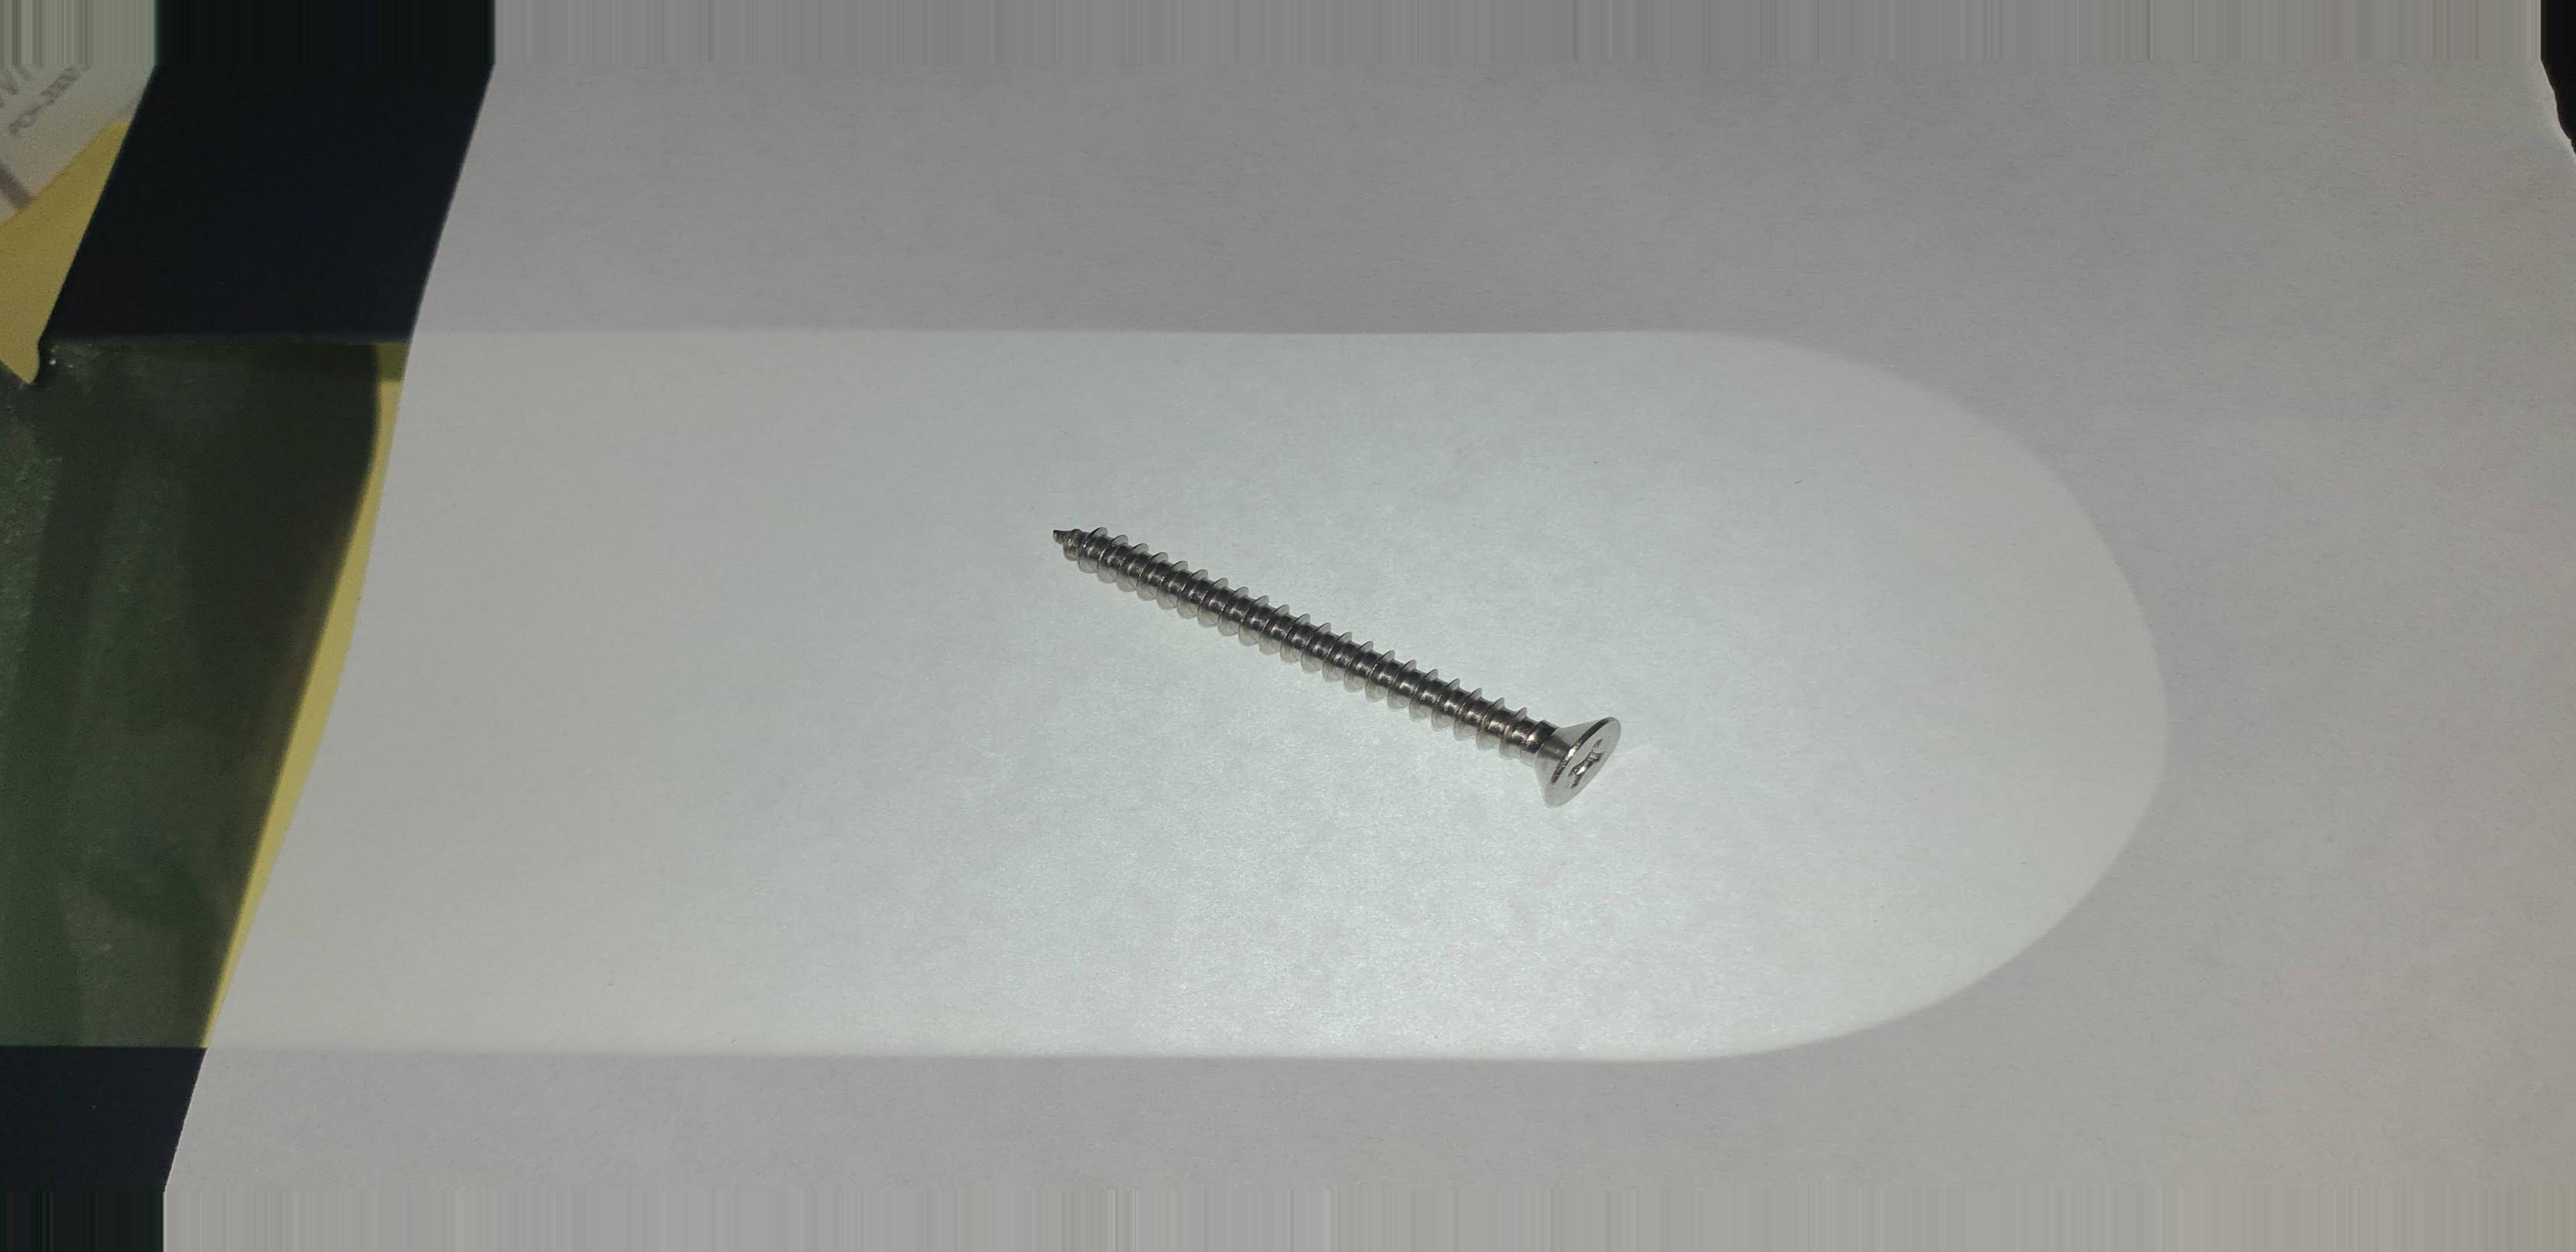fastener: (1025, 442, 1699, 849)
